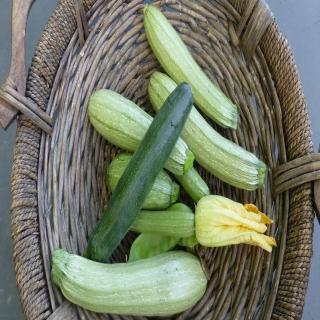Cucumber: (85, 93, 190, 256)
